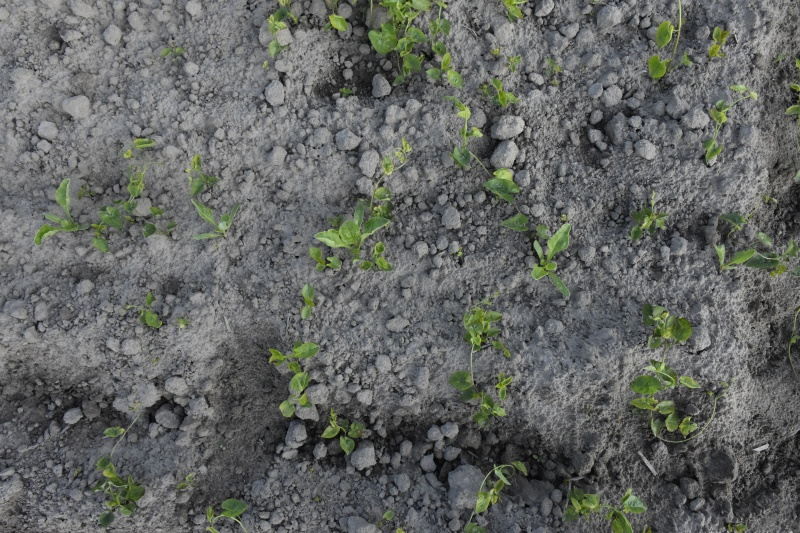field bindweed: (643, 308, 730, 440), (454, 101, 531, 232), (451, 296, 517, 427), (367, 1, 452, 73), (90, 170, 153, 256), (95, 414, 145, 514), (700, 83, 760, 166), (269, 342, 324, 416), (651, 19, 692, 75), (636, 192, 672, 247), (208, 496, 256, 533), (326, 417, 371, 454), (264, 2, 304, 36), (127, 295, 163, 332), (423, 58, 468, 87), (492, 78, 523, 113), (707, 25, 734, 63), (299, 281, 319, 322), (175, 315, 197, 335), (158, 44, 190, 55)
sugar beet: (314, 204, 388, 258), (531, 221, 577, 299), (33, 178, 75, 245), (187, 197, 242, 244), (713, 242, 751, 275)
